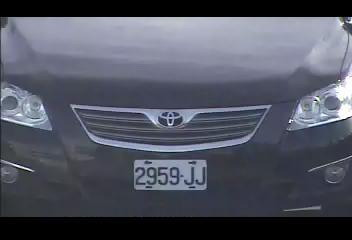plate: (132, 158, 208, 191)
